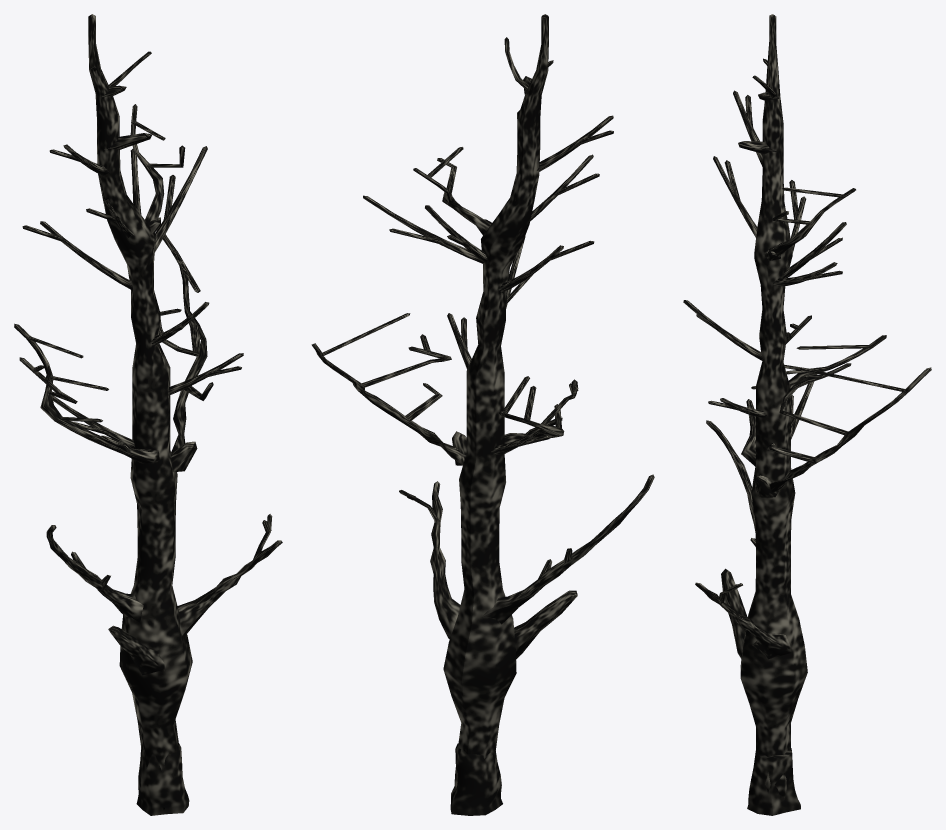
The model's file is CreTree02a.glb.
The picture shows the model from 3 angles, left to right: view 1: azimuth 30°, elevation 25°; view 2: azimuth 150°, elevation 25°; view 3: azimuth 270°, elevation 25°; orthographic projection. The views are drawn at different scales.
Visible parts, largest first — view 1: CreTree02a_limbs; view 2: CreTree02a_limbs; view 3: CreTree02a_limbs.
Part boxes in pixels (bbox=[...]): CreTree02a_limbs: bbox=[14, 14, 282, 815]; CreTree02a_limbs: bbox=[311, 14, 654, 815]; CreTree02a_limbs: bbox=[683, 14, 931, 815].
Bounding box in the file's own units: 3.33 × 10.77 × 3.19.
1 material, 1 textured.
